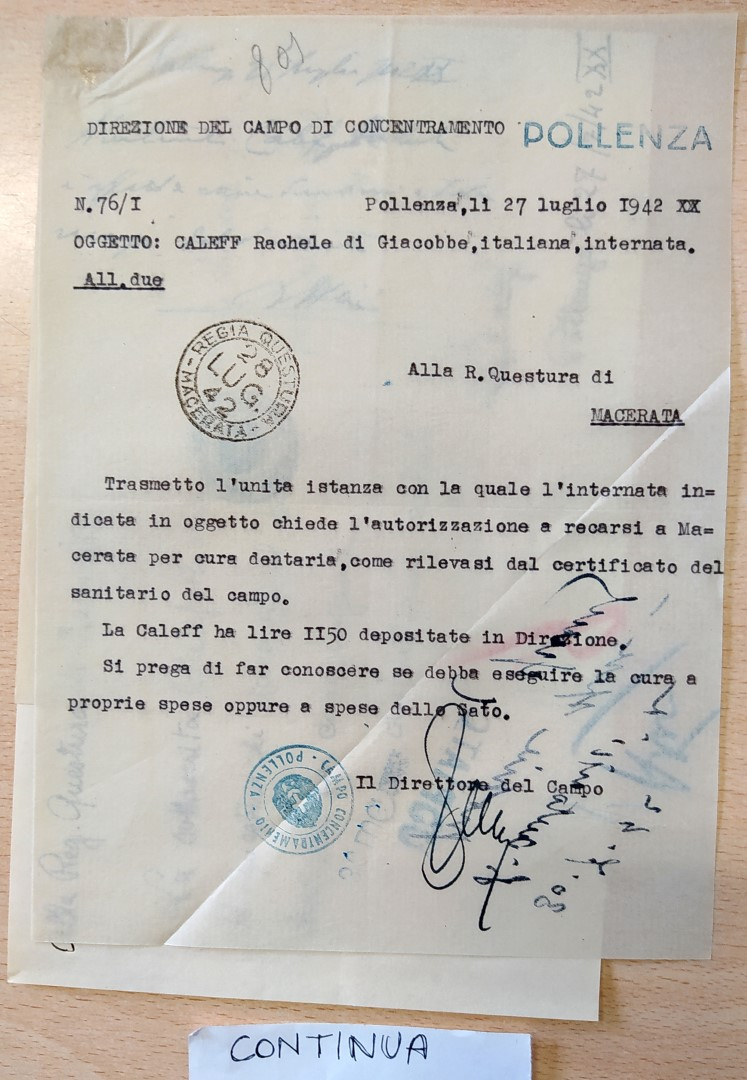stamp: (175, 317, 302, 444), (243, 743, 353, 854)
